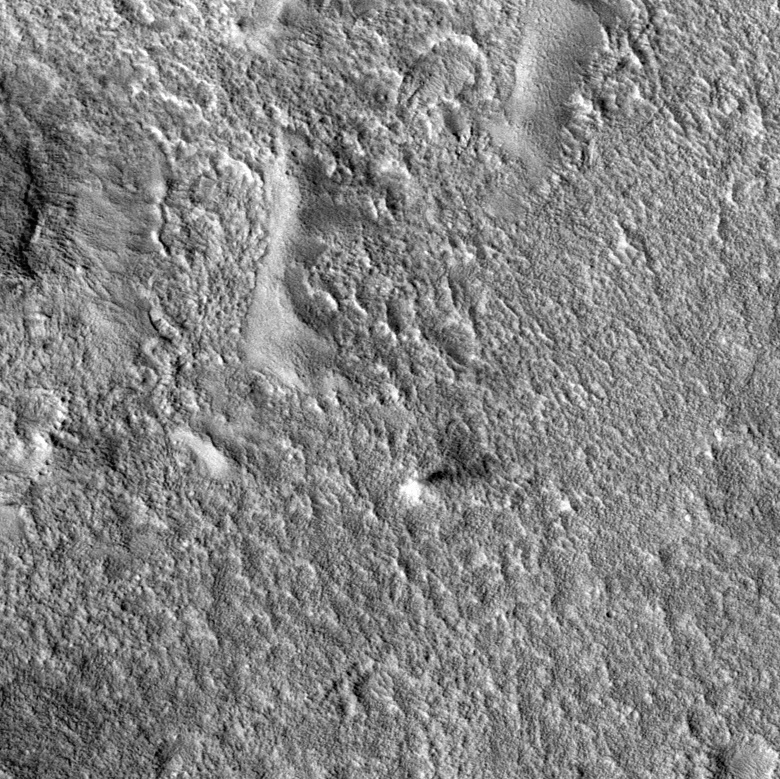dust_devil: (396, 453, 498, 508)
